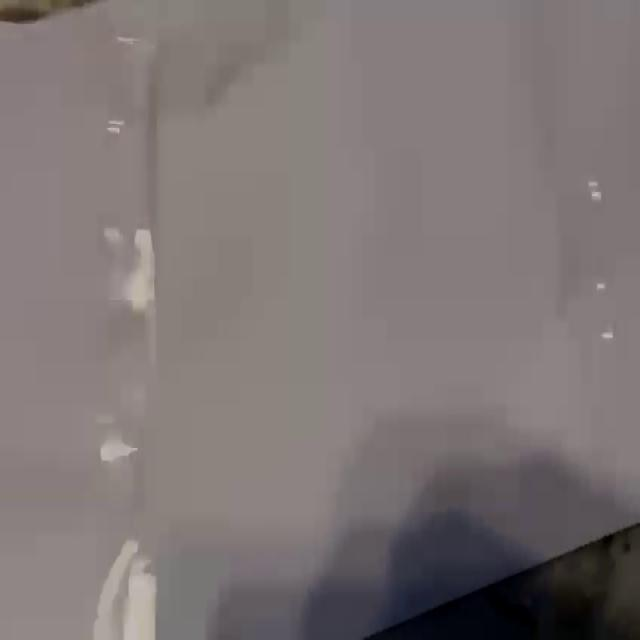road: (0, 1, 640, 638)
